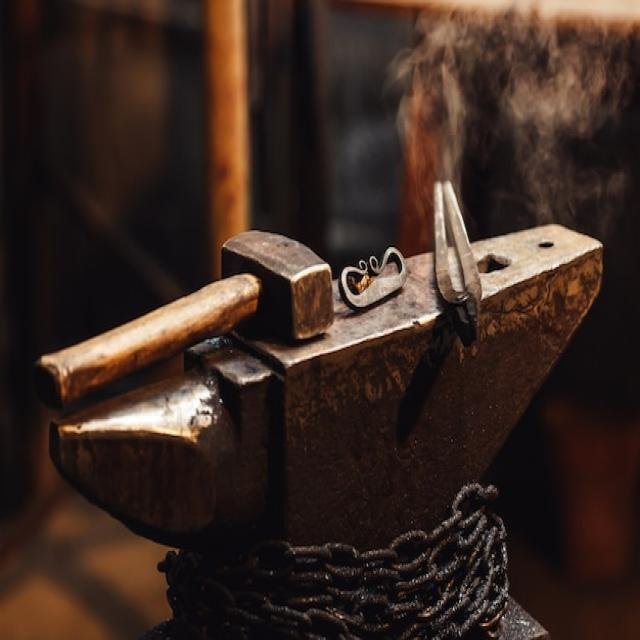hammer: (33, 196, 334, 421)
